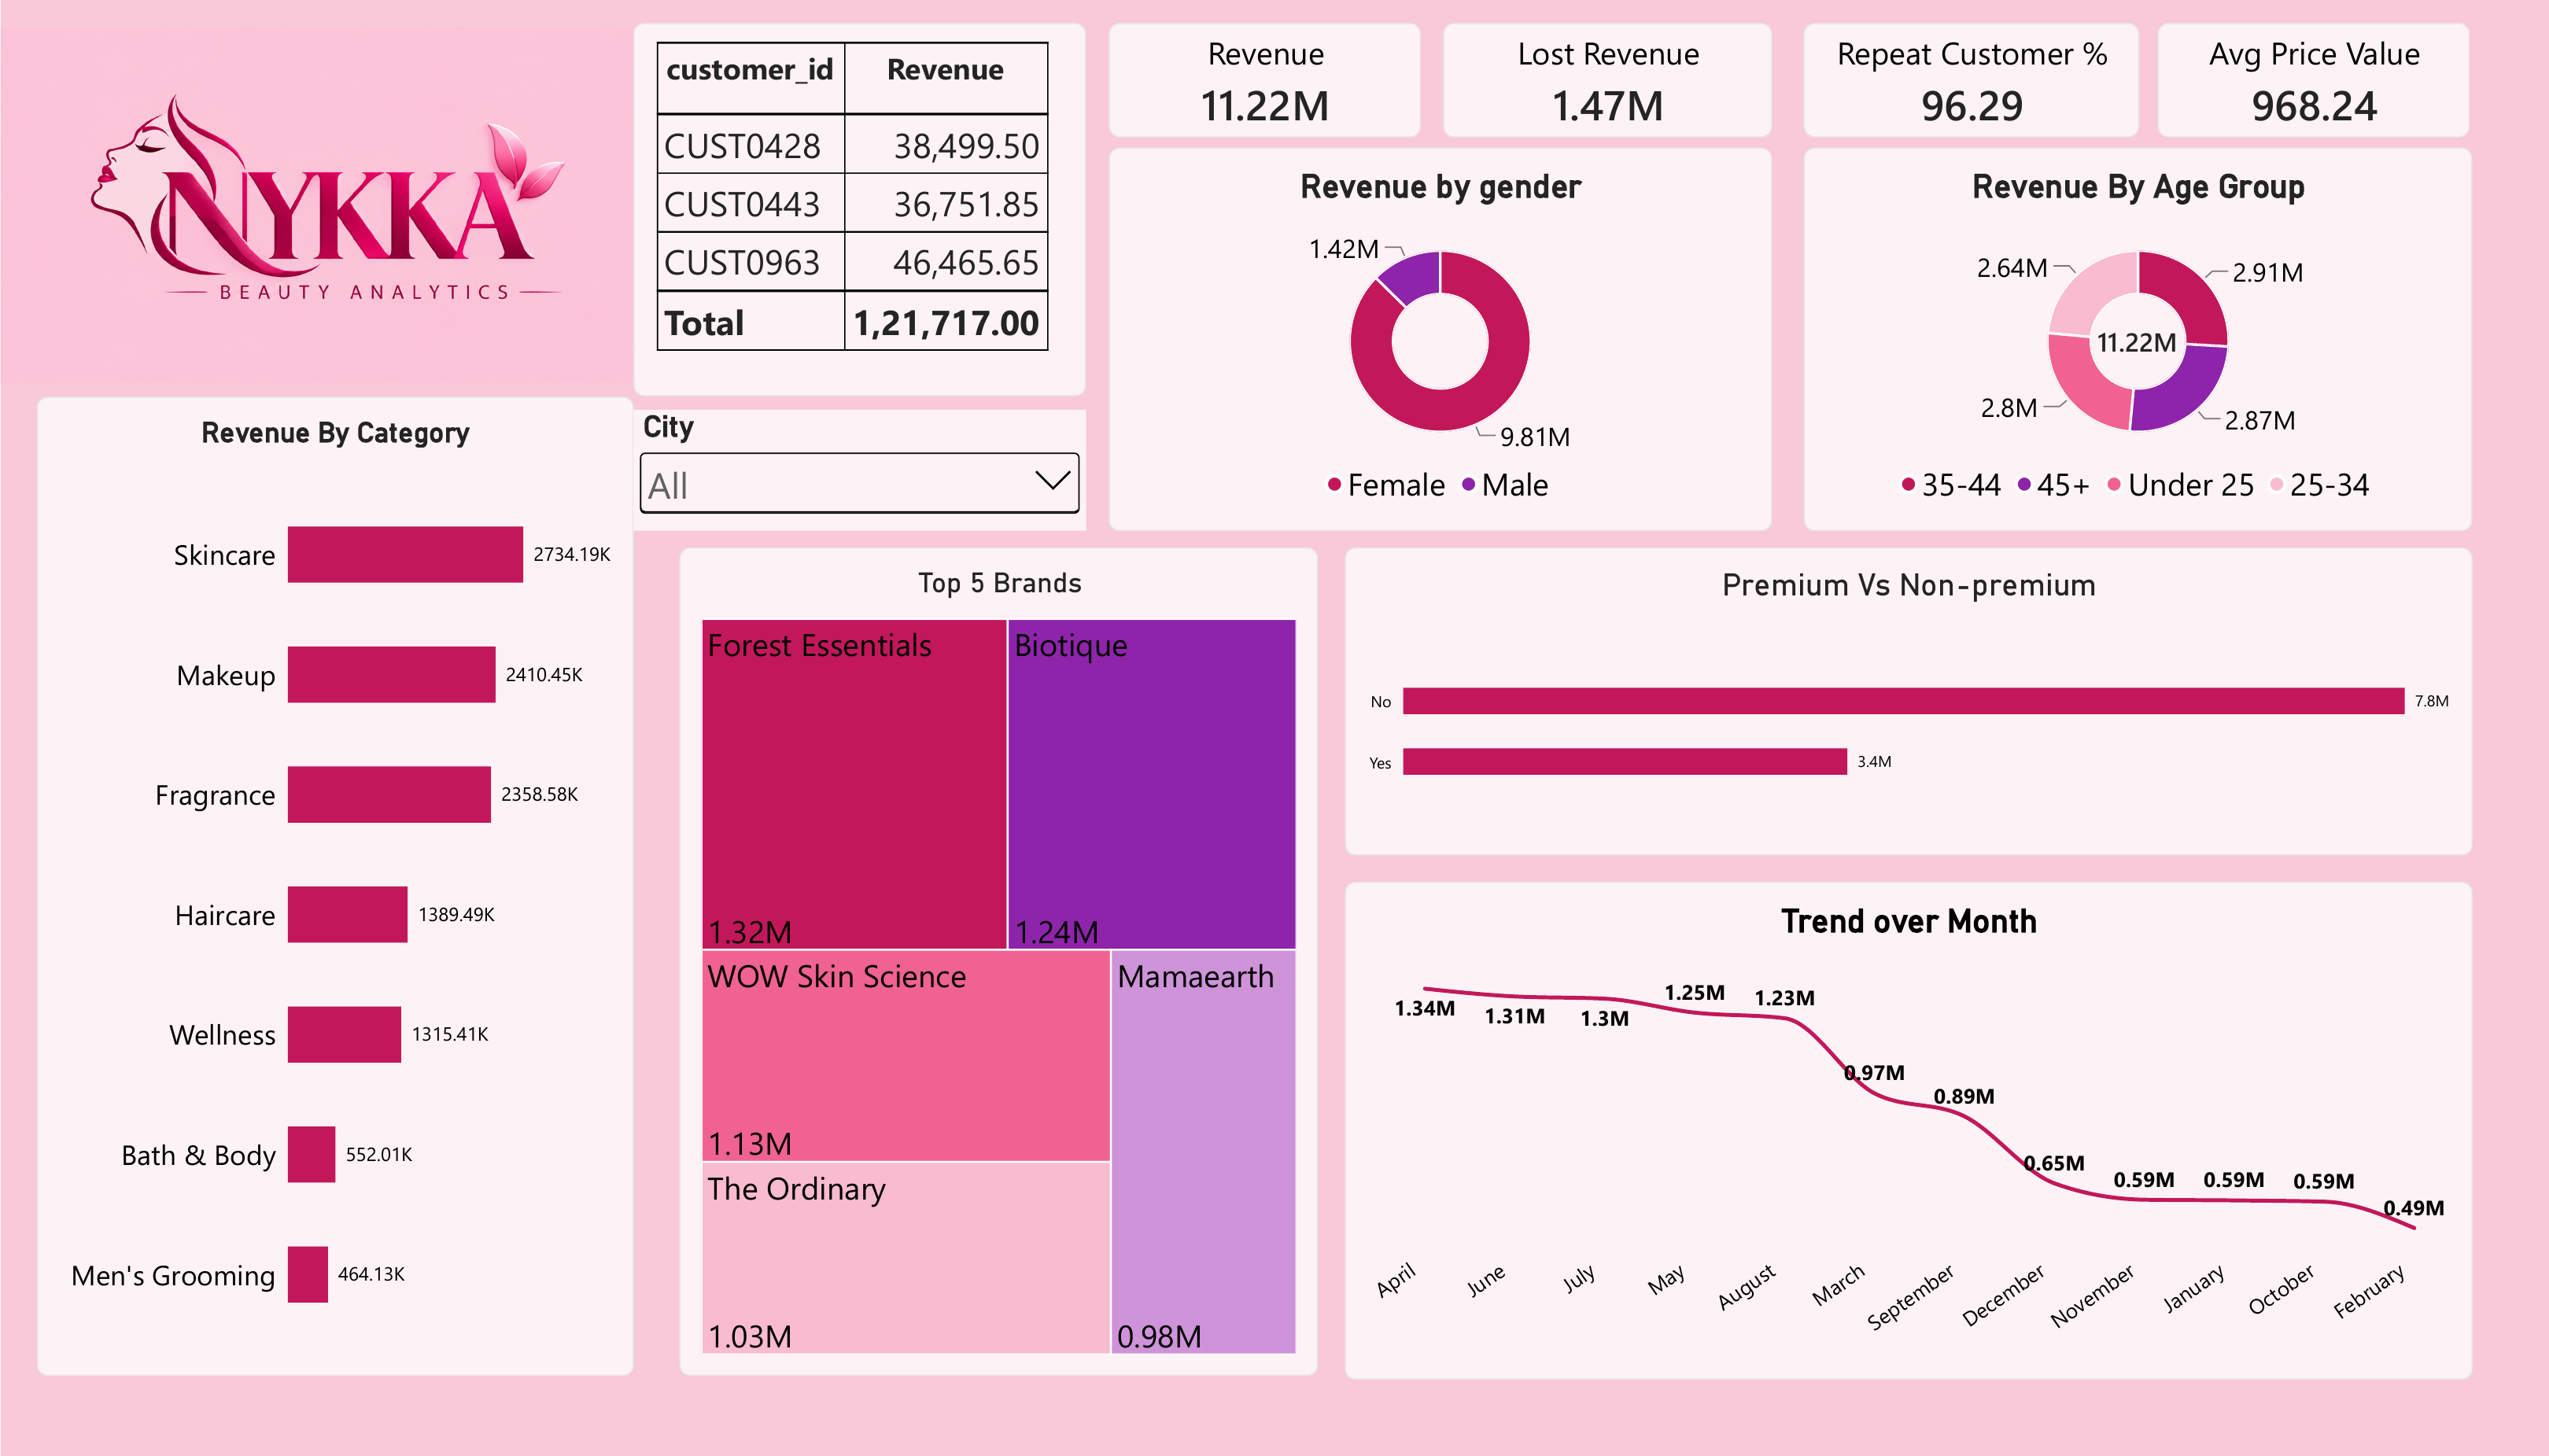

Layout of this report page (visuals, bound fields, positions):
{"tool":"powerbi","page":{"name":"Overview","canvas":[1920,1080],"ordinal":0},"visuals":[{"type":"cardVisual","fields":{"Data":["Table.Lost Revenue"]},"box":[1108.2,17.3,253.7,88.9],"z":0},{"type":"cardVisual","fields":{"Data":["Table.Revenue"]},"box":[852.3,17.3,240.7,88.9],"z":1000},{"type":"donutChart","title":"Revenue By Age Group","fields":{"Category":["Customers.Age Group"],"Y":["Table.Revenue"]},"box":[1385.8,112.8,514,294.9],"z":2000},{"type":"pieChart","fields":{"Category":["Customers.gender"],"Y":["Table.Revenue"]},"box":[852.3,112.8,509.6,294.9],"z":3000},{"type":"lineChart","title":"Trend over Month","fields":{"Category":["Orders.order_datetime.Variation.Date Hierarchy.Month"],"Y":["Table.Revenue"]},"box":[1033.1,677.8,866.8,383],"z":4000},{"type":"barChart","title":"Revenue By Category","fields":{"Y":["Table.Revenue"],"Category":["Products.category"]},"box":[27.7,304.9,458.6,753.4],"z":5000},{"type":"tableEx","fields":{"Values":["Customers.customer_id","Table.Revenue"]},"box":[486.3,17.6,347.7,287.2],"z":6000},{"type":"slicer","fields":{"Values":["Orders.city"]},"box":[486.3,315,347.7,93.2],"z":7000},{"type":"clusteredBarChart","title":"Premium Vs Non-premium ","fields":{"Category":["Customers.is_premium_member"],"Y":["Table.Revenue"]},"box":[1033.1,420.8,866.8,236.9],"z":8000},{"type":"cardVisual","fields":{"Data":["Table.Repeat Customer %"]},"box":[1385.8,17.3,258.1,88.9],"z":9000},{"type":"cardVisual","fields":{"Data":["Table.Avg Price Value"]},"box":[1659,17.3,240.7,88.9],"z":10000},{"type":"treemap","title":"Top 5 Brands ","fields":{"Group":["Products.brand"],"Values":["Table.Revenue"]},"box":[521.6,420.8,491.3,637.5],"z":11000},{"type":"image","box":[0,0,486.3,315],"z":12000}]}

Visuals, with their boxes in screenshot pixels (x1, y1, x2, y2), scaled from the page's 1920x1080 canvas onto the 2549x1456 screenshot:
cardVisual - Table.Lost Revenue: x1=1471, y1=24, x2=1808, y2=143
cardVisual - Table.Revenue: x1=1131, y1=24, x2=1451, y2=143
"Revenue By Age Group" donutChart: x1=1840, y1=152, x2=2522, y2=550
pieChart - Customers.gender x Table.Revenue: x1=1131, y1=152, x2=1808, y2=550
"Trend over Month" lineChart: x1=1371, y1=914, x2=2522, y2=1430
"Revenue By Category" barChart: x1=37, y1=411, x2=646, y2=1427
tableEx - Customers.customer_id x Table.Revenue: x1=646, y1=24, x2=1107, y2=411
slicer - Orders.city: x1=646, y1=425, x2=1107, y2=551
"Premium Vs Non-premium " clusteredBarChart: x1=1371, y1=567, x2=2522, y2=887
cardVisual - Table.Repeat Customer %: x1=1840, y1=24, x2=2182, y2=143
cardVisual - Table.Avg Price Value: x1=2203, y1=24, x2=2522, y2=143
"Top 5 Brands " treemap: x1=692, y1=567, x2=1345, y2=1427
image: x1=0, y1=0, x2=646, y2=425
